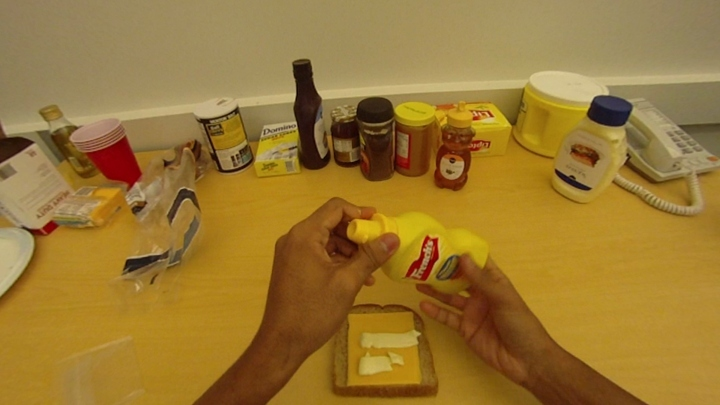hand: (266, 196, 396, 338), (409, 226, 540, 364)
